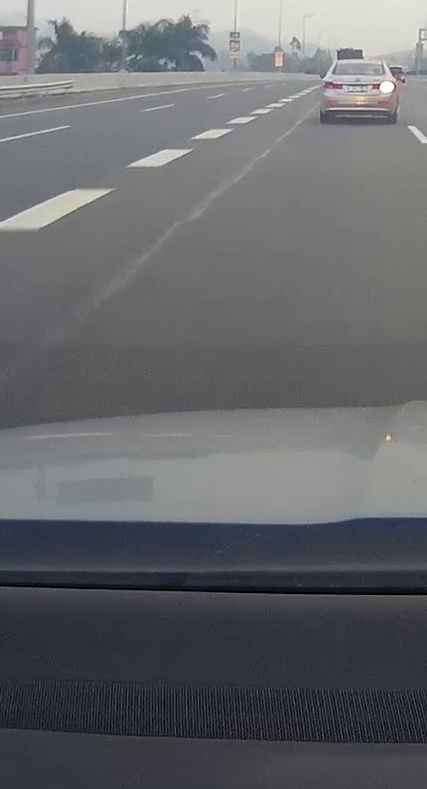L_light: (323, 81, 343, 90)
R_light: (372, 82, 395, 90)
T_light: (355, 62, 366, 65)
day-right: (321, 59, 398, 124)
